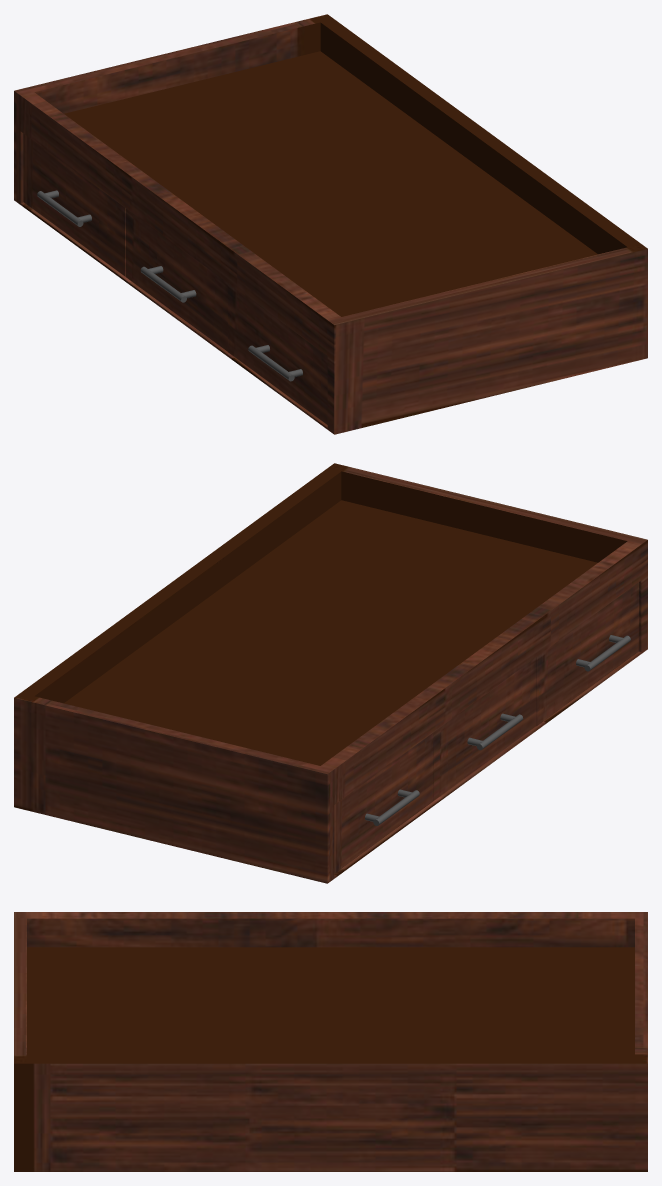
File: Bed.fbx
The picture shows the model from 3 angles, top to bottom: view 1: azimuth 30°, elevation 25°; view 2: azimuth 150°, elevation 25°; view 3: azimuth 270°, elevation 25°; orthographic projection.
Visible parts, largest first — view 1: polySurface387; view 2: polySurface387; view 3: polySurface387.
Boxes of the visible parts, bbox=[...] form: polySurface387: bbox=[14, 14, 647, 434]; polySurface387: bbox=[14, 463, 647, 883]; polySurface387: bbox=[14, 912, 647, 1171].
Bounding box in the file's own units: 0.9482 × 0.3027 × 1.61.
